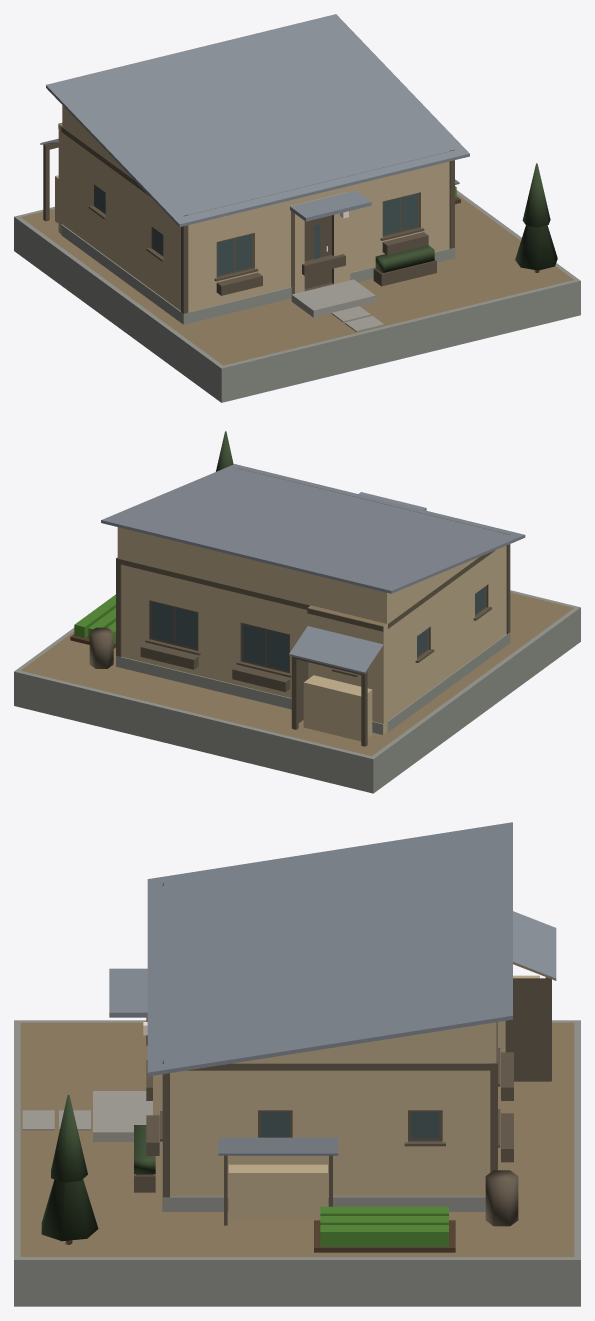
The model's file is site_hut1.fbx.
3 views of the same model, one above another, from view 1: azimuth 30°, elevation 25°; view 2: azimuth 150°, elevation 25°; view 3: azimuth 270°, elevation 25° (orthographic). The views are drawn at different scales.
Visible parts, largest first — view 1: a2015.site_hut1; view 2: a2015.site_hut1; view 3: a2015.site_hut1.
Boxes of the visible parts, x1,y1,x2,y2 form: a2015.site_hut1: (14, 14, 580, 402); a2015.site_hut1: (14, 431, 580, 793); a2015.site_hut1: (14, 822, 580, 1306).
Bounding box in the file's own units: 10.4 × 5.05 × 10.4.
